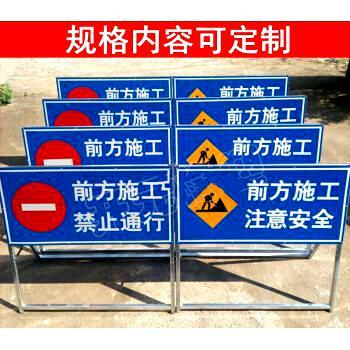sign: (1, 168, 172, 243), (179, 166, 348, 239), (25, 128, 168, 165), (176, 126, 321, 162), (176, 98, 303, 124), (43, 99, 167, 123), (57, 78, 166, 98), (174, 79, 287, 96)
